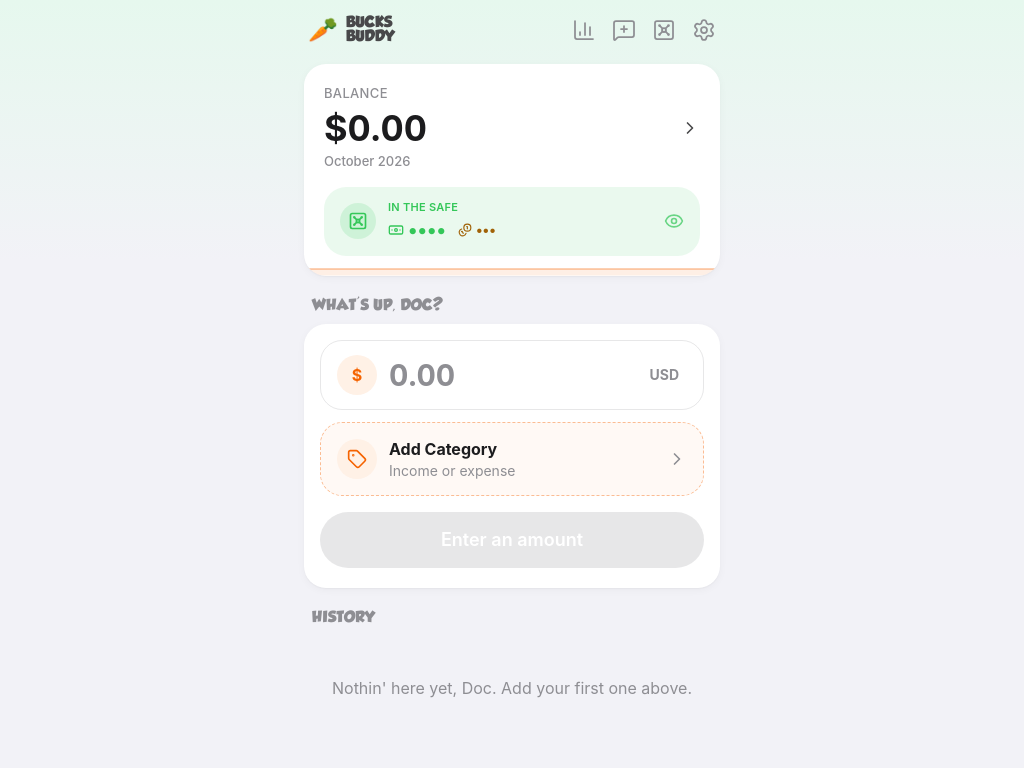
Test: Home › keeps the safe balance hidden until revealed
Expected: the text "••••" is shown, [388, 216, 446, 244]
Click the button named "Show safe balance": (674, 221) [656, 203, 692, 239]
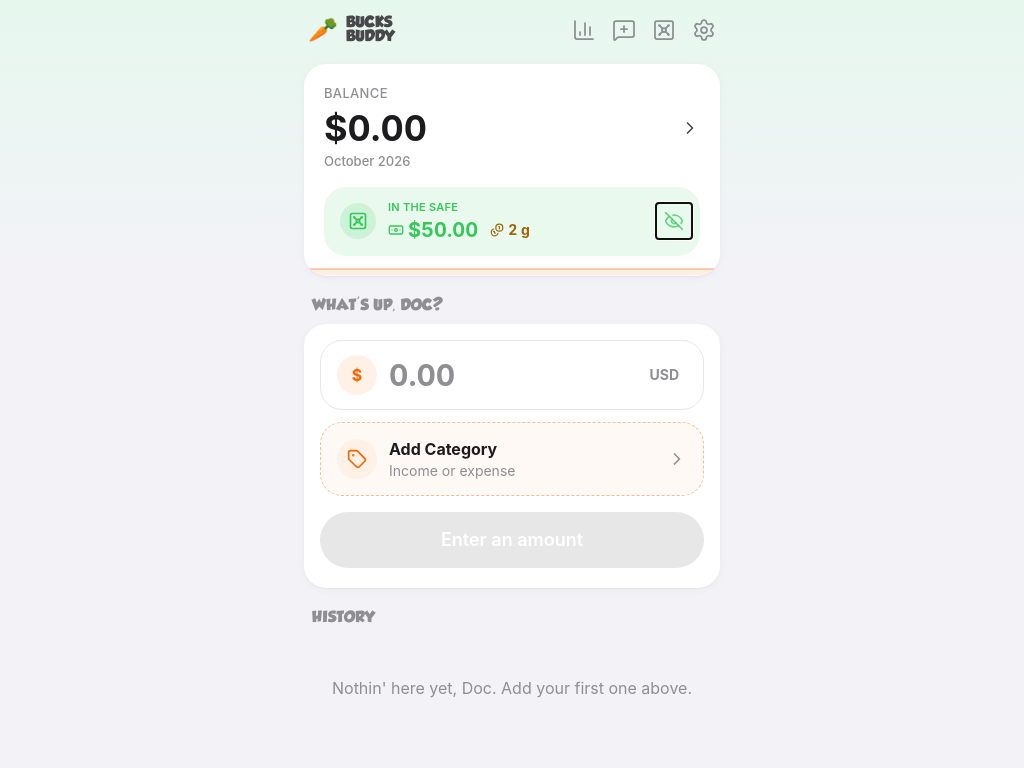
Expected: the text "$50.00" is shown, [388, 216, 478, 244]
Expected: the text "2 g" is shown, [490, 220, 530, 240]
